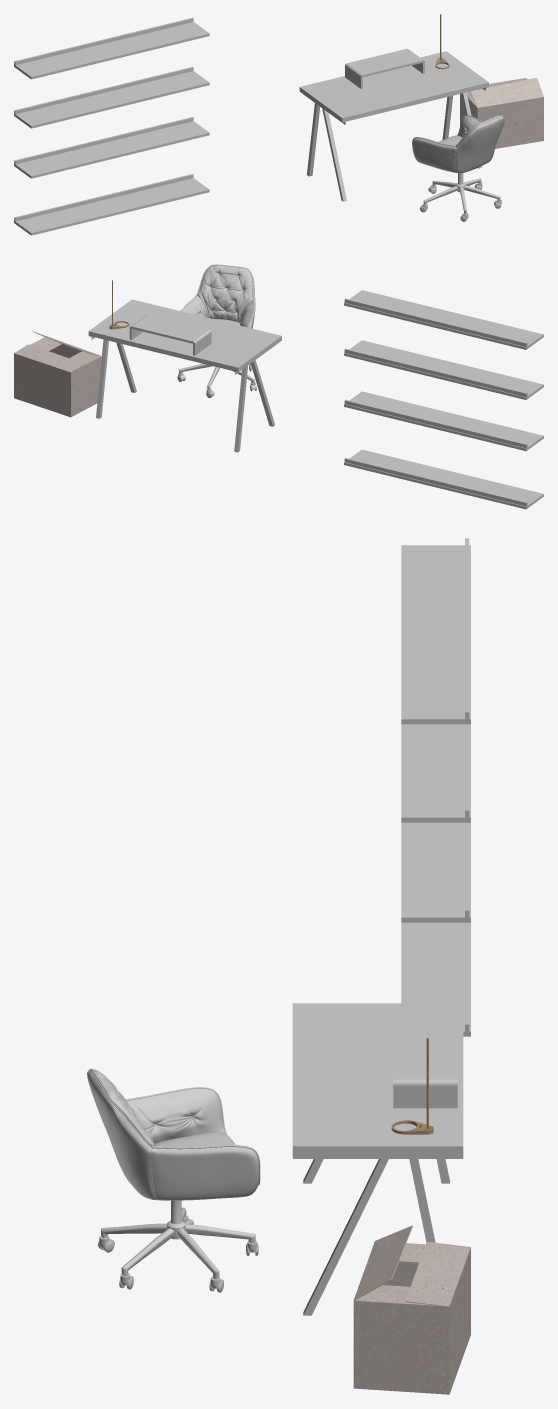
Rendered from Study.fbx.
3 views of the same model, one above another, from view 1: azimuth 30°, elevation 25°; view 2: azimuth 150°, elevation 25°; view 3: azimuth 270°, elevation 25° (orthographic). The views are drawn at different scales.
Visible parts, largest first — view 1: Study_Shelf, Study_Desk, Study_Box_2, Study_Chair_1, Study__DeskAccessories, Study_Chair_1_Foot; view 2: Study_Shelf, Study_Desk, Study_Box_2, Study_Chair_1, Study__DeskAccessories, Study_Chair_1_Foot; view 3: Study_Shelf, Study_Desk, Study_Box_2, Study_Chair_1, Study__DeskAccessories, Study_Chair_1_Foot.
Boxes of the visible parts, x1,y1,x2,y2 form: Study_Shelf: (14,17,209,235); Study_Desk: (299,51,488,201); Study_Box_2: (460,77,543,148); Study_Chair_1: (412,115,504,173); Study__DeskAccessories: (345,48,424,88); Study_Chair_1_Foot: (419,173,501,221); Study_Shelf: (344,290,543,509); Study_Desk: (88,299,281,452); Study_Box_2: (14,331,101,417); Study_Chair_1: (180,264,255,328); Study__DeskAccessories: (129,314,211,355); Study_Chair_1_Foot: (177,363,256,397); Study_Shelf: (401,538,470,1036); Study_Desk: (292,1003,463,1315); Study_Box_2: (353,1225,470,1394); Study_Chair_1: (87,1068,260,1200); Study__DeskAccessories: (393,1020,457,1108); Study_Chair_1_Foot: (98,1200,258,1292).
Bounding box in the file's own units: 1812 × 618 × 594.
